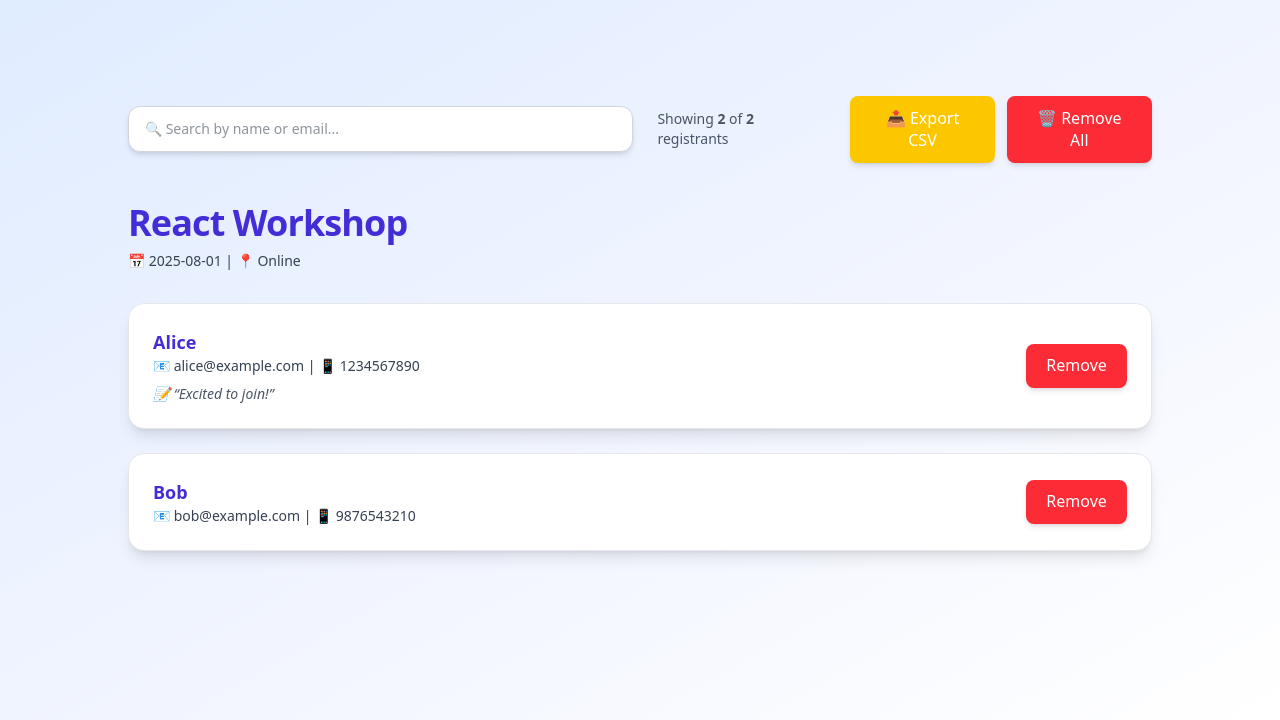
Test: EventRegistrants › removes all registrants
Expected: the text "Alice" is shown, [153,330,196,354]
What coordinates should you click on to do the following:
click the button with aria-label "remove all registrants"
I would click on:
 (1079, 129)
Its box is [1007,96,1152,163].
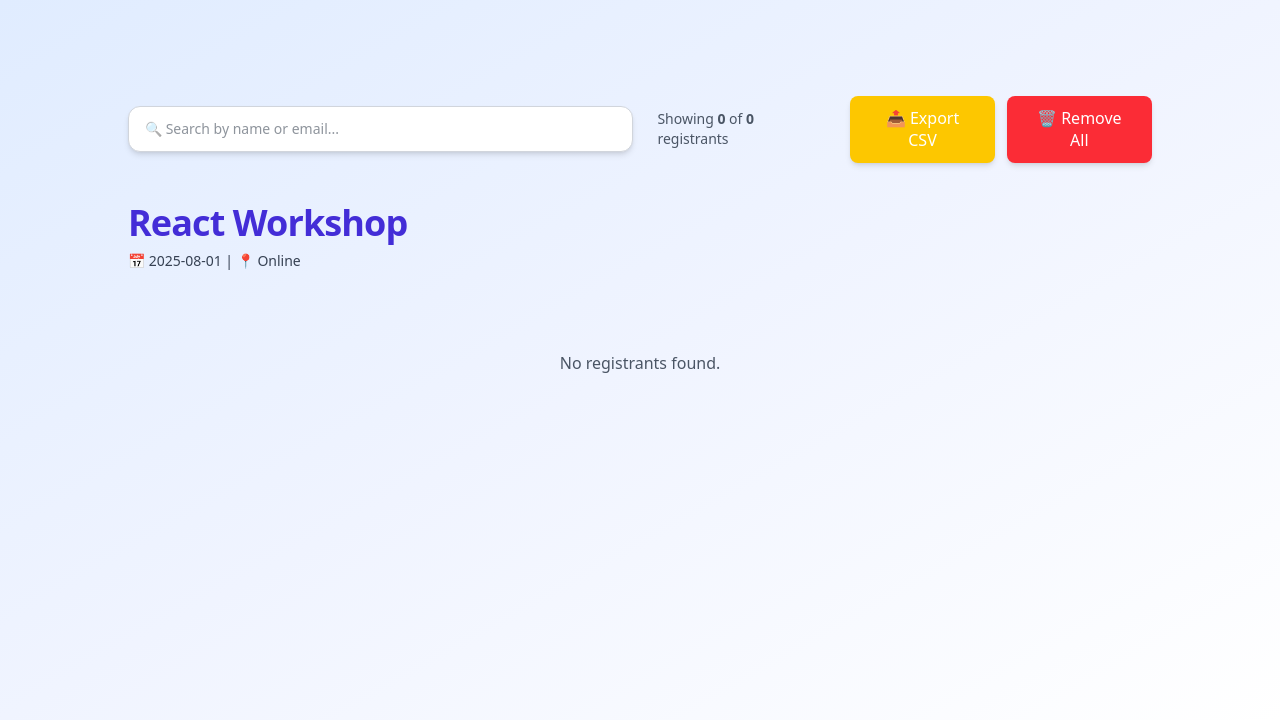
Result: the text "Alice" is gone
Result: the text "Bob" is gone
